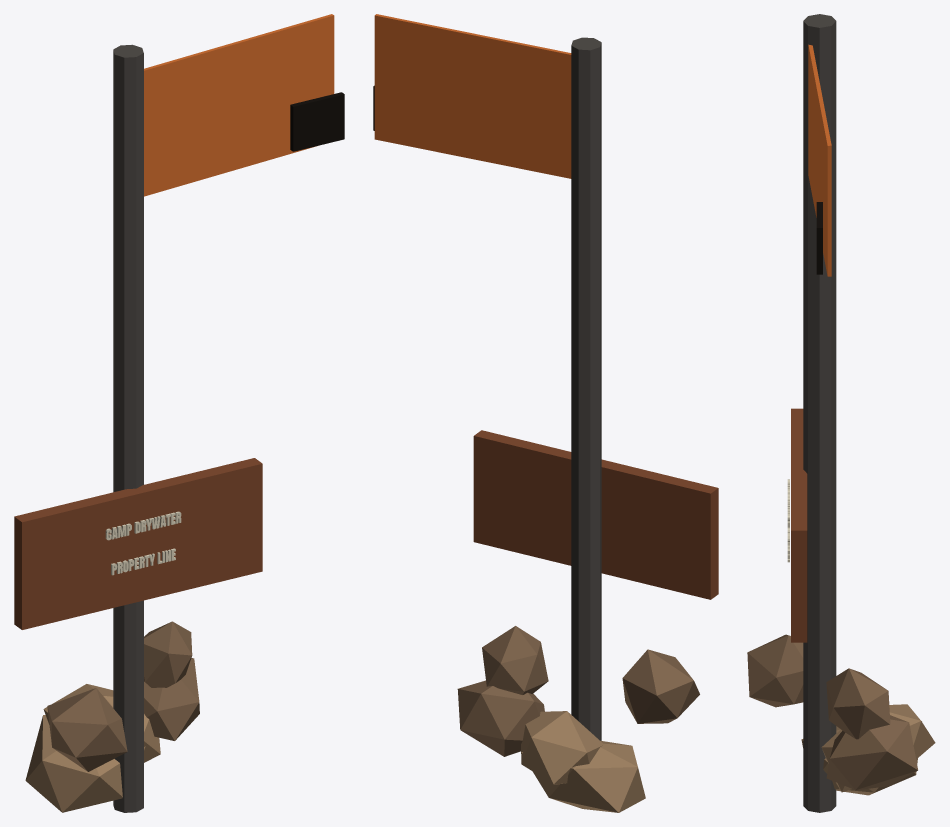
The model's file is SignChimney.glb.
The picture shows the model from 3 angles, left to right: view 1: azimuth 30°, elevation 25°; view 2: azimuth 150°, elevation 25°; view 3: azimuth 270°, elevation 25°; orthographic projection. The views are drawn at different scales.
Visible parts, largest first — view 1: SignChimney.001; view 2: SignChimney.001; view 3: SignChimney.001.
Part boxes in pixels (box(x1,y1,x2,y2)): SignChimney.001: box(14, 14, 344, 812); SignChimney.001: box(373, 14, 718, 812); SignChimney.001: box(747, 14, 935, 812).
Size of the model in its own units: 1.95 by 4.2 by 0.9124.
